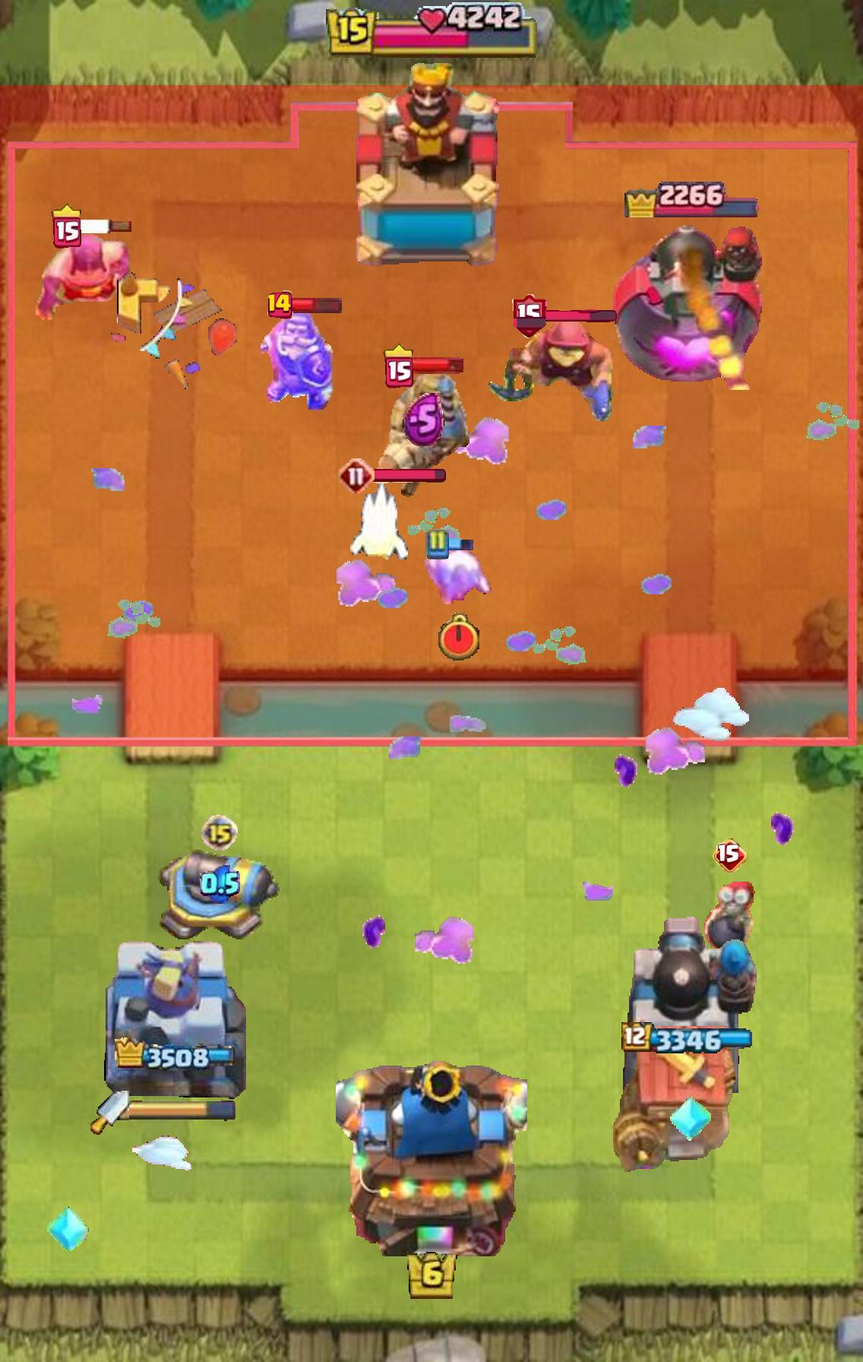cannon: (157, 847, 282, 954)
elixir: (403, 393, 445, 447), (200, 863, 240, 903)
ice-spirit-evolution: (421, 546, 497, 604)
